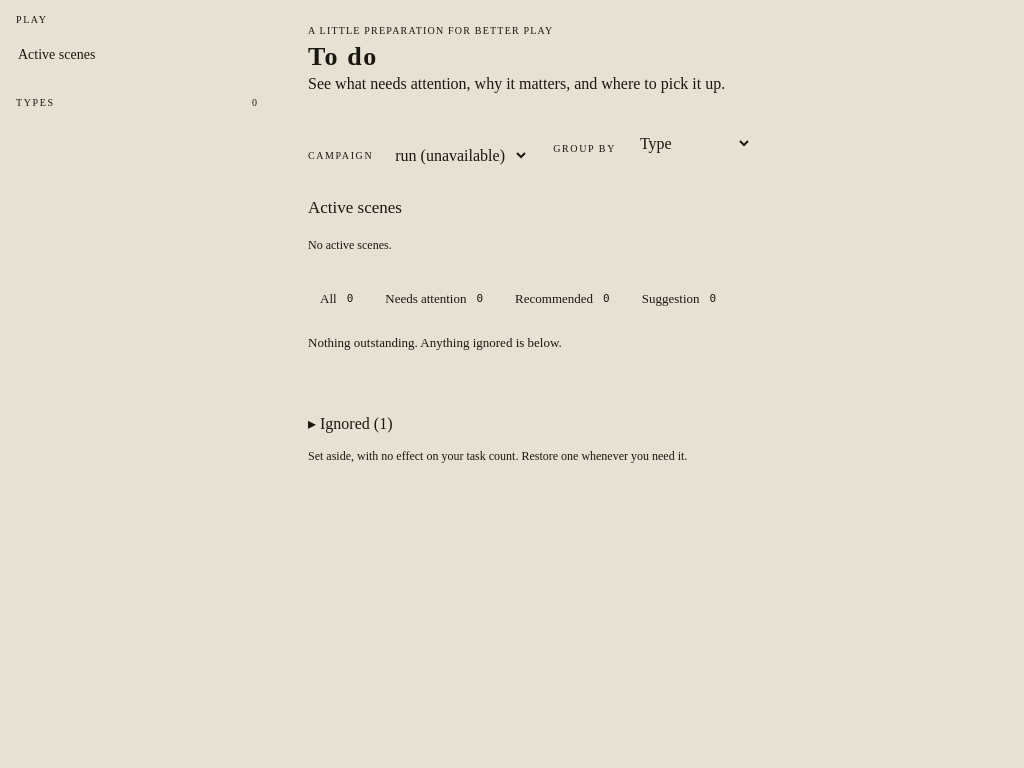
Test: an ignored chore is kept, with a way back
Step 1. Click the button "▸ Ignored (1)" → click(350, 424), box [308,402,392,446]
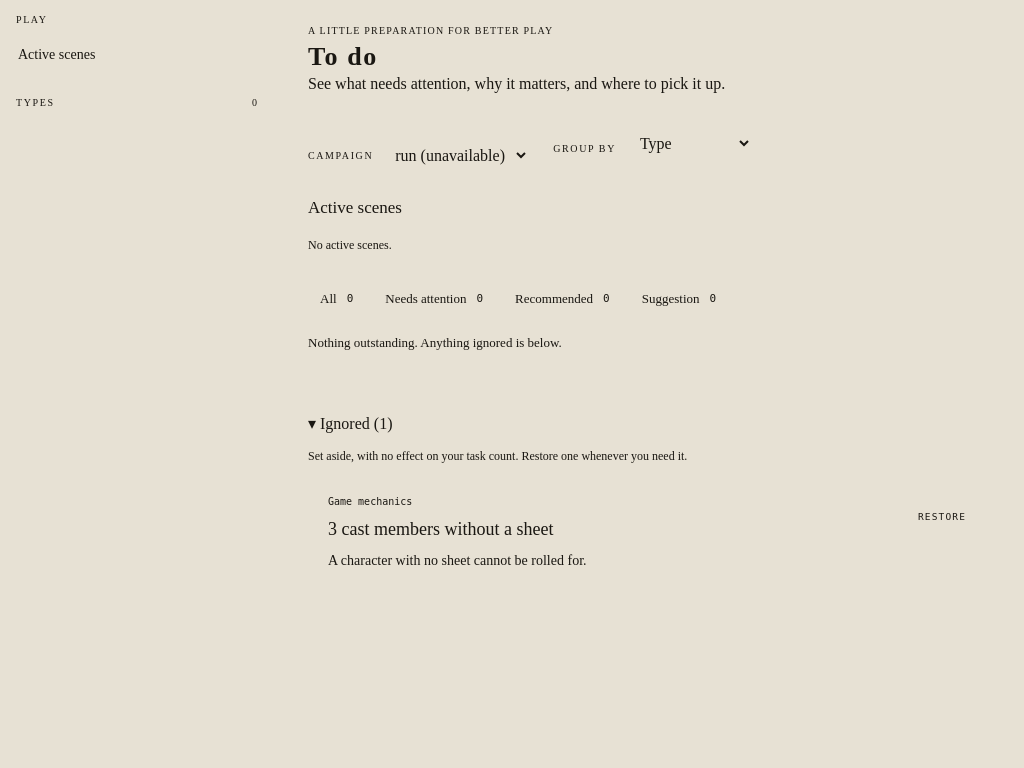
Expected: the button "Restore" is shown, [914,494,970,538]
